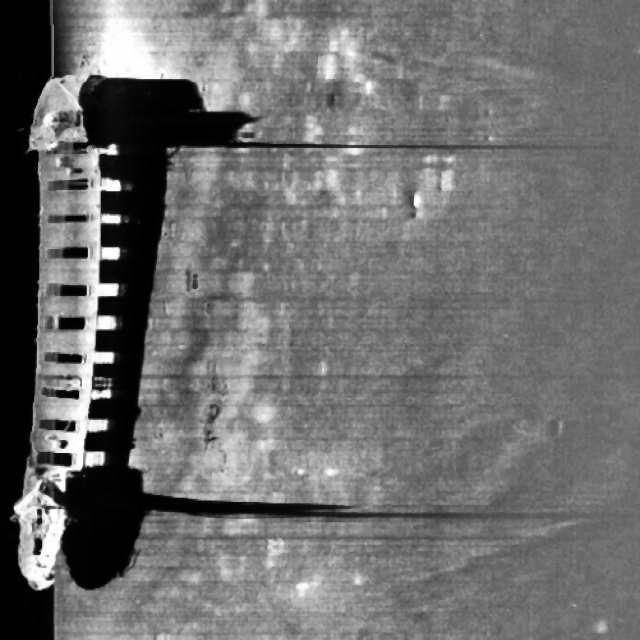Ship: (10, 67, 124, 608)
